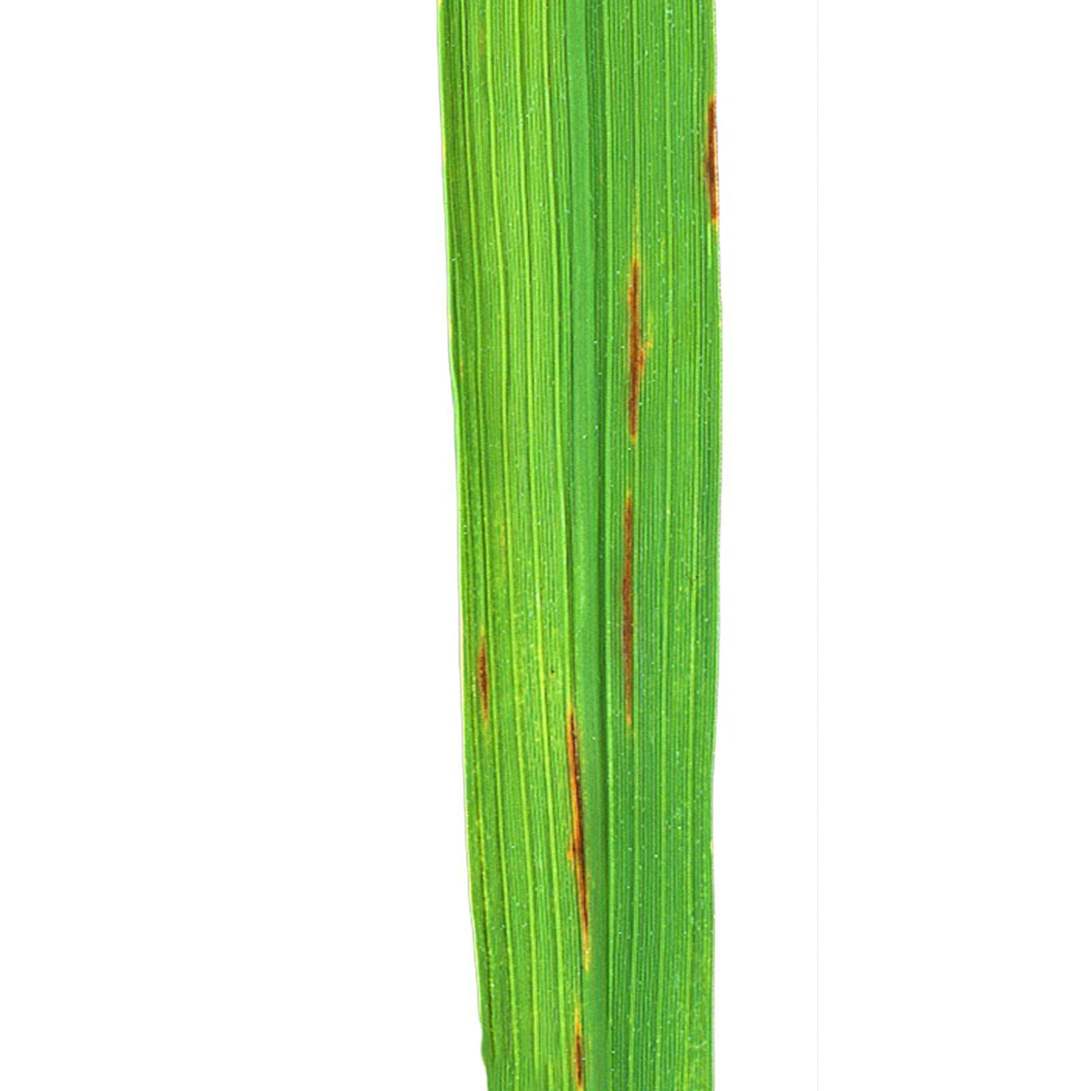LEAF: (438, 0, 721, 1090)
NBS: (559, 697, 594, 980), (620, 487, 633, 728), (627, 256, 643, 443), (702, 95, 720, 223), (472, 620, 493, 728), (572, 1001, 586, 1086)
